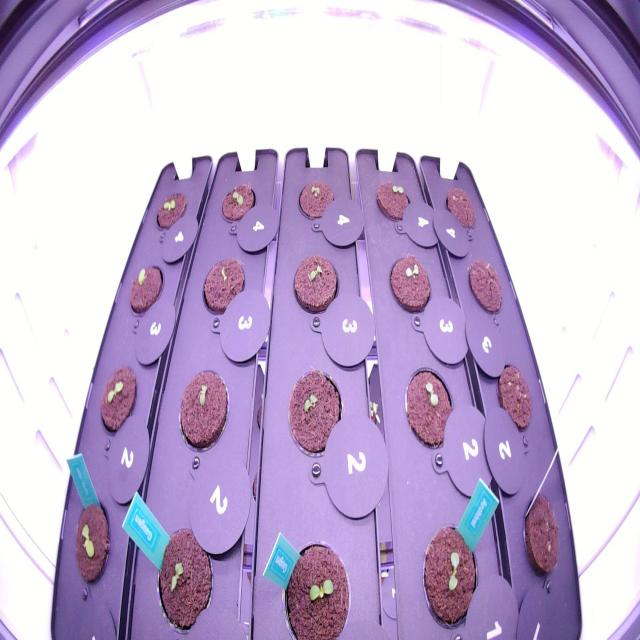germination: (275, 534, 359, 638), (149, 518, 216, 634), (418, 514, 482, 630), (284, 362, 347, 469), (400, 360, 460, 460), (175, 362, 232, 458), (72, 493, 112, 591), (289, 249, 345, 317), (387, 247, 435, 322), (95, 358, 139, 438), (200, 248, 248, 320), (128, 259, 164, 320), (374, 177, 416, 226), (294, 176, 338, 222), (218, 180, 260, 226), (153, 187, 189, 235)
pod: (520, 486, 562, 586), (493, 353, 534, 438), (464, 255, 507, 318), (444, 182, 479, 232)
